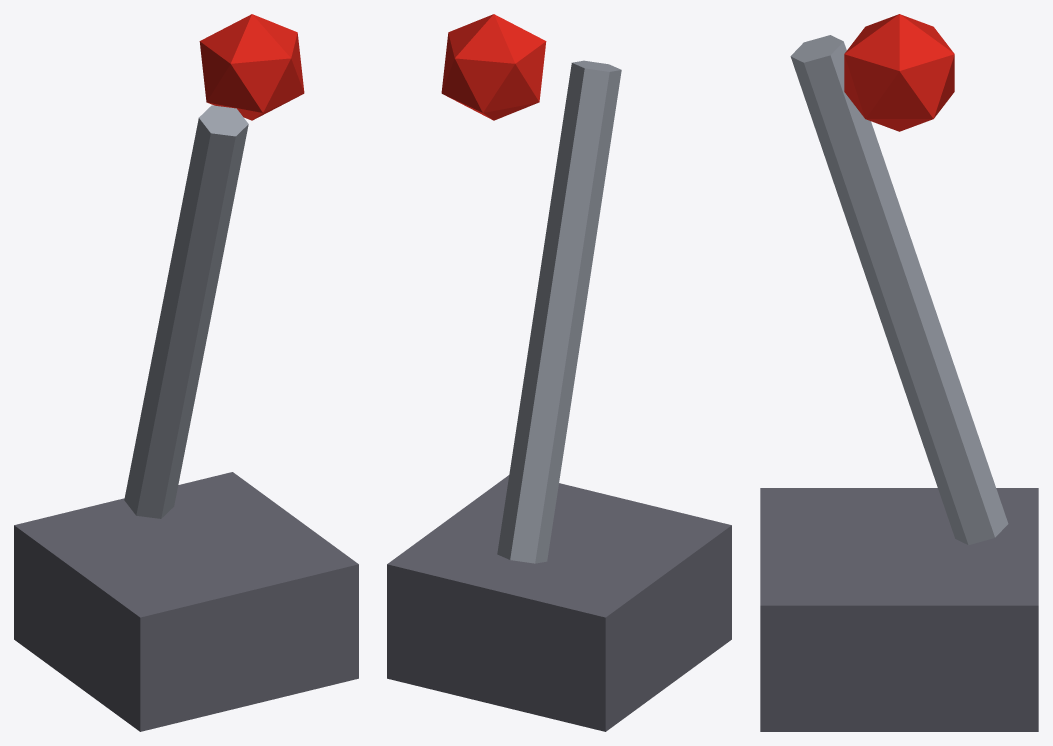
The model's file is rail_switch_lever.glb.
3 views of the same model, side by side, from view 1: azimuth 30°, elevation 25°; view 2: azimuth 150°, elevation 25°; view 3: azimuth 270°, elevation 25° (orthographic). The views are drawn at different scales.
Visible parts, largest first — view 1: rail_switch_lever; view 2: rail_switch_lever; view 3: rail_switch_lever.
Boxes of the visible parts, bbox=[...] form: rail_switch_lever: bbox=[14, 14, 358, 731]; rail_switch_lever: bbox=[387, 14, 731, 731]; rail_switch_lever: bbox=[760, 14, 1038, 731].
Bounding box in the file's own units: 0.3026 × 0.825 × 0.3.
